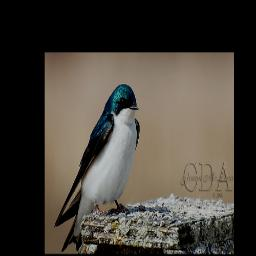Swallow: (54, 83, 140, 253)
